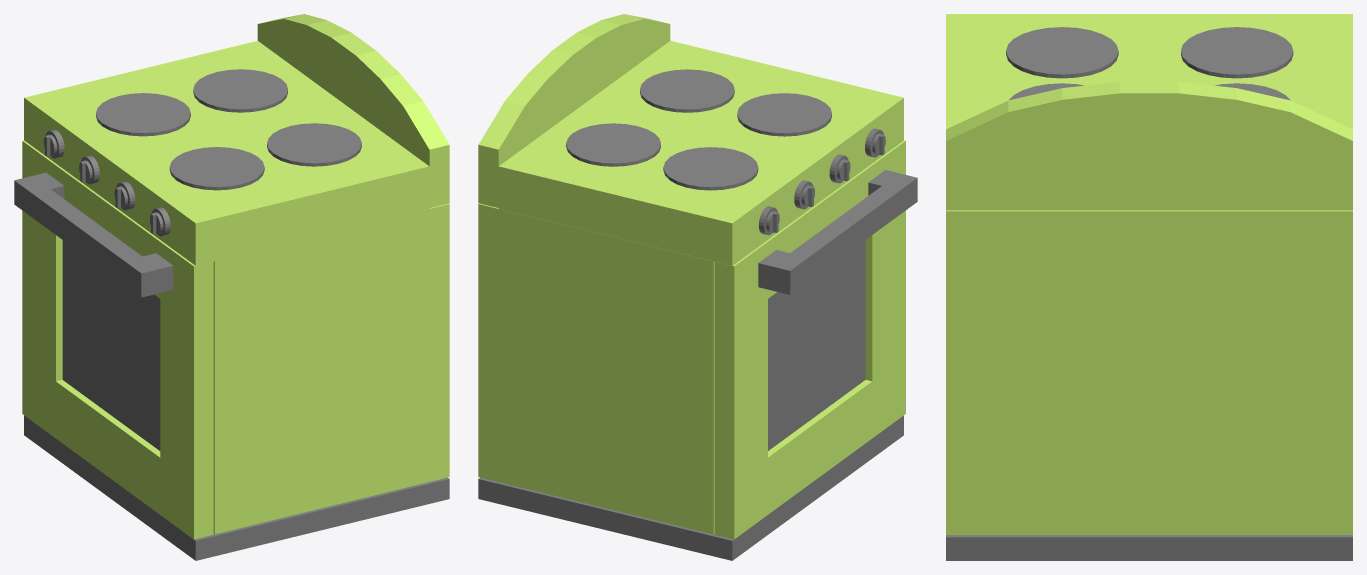
Rendered from Kitchen.fbx.
3 views of the same model, side by side, from view 1: azimuth 30°, elevation 25°; view 2: azimuth 150°, elevation 25°; view 3: azimuth 270°, elevation 25° (orthographic). The views are drawn at different scales.
Visible parts, largest first — view 1: Stove.001; view 2: Stove.001; view 3: Stove.001.
Boxes of the visible parts, <box> form: Stove.001: <box>14,14,449,560</box>; Stove.001: <box>478,14,917,560</box>; Stove.001: <box>946,14,1352,560</box>.
Size of the model in its own units: 1.94 by 2.54 by 2.
